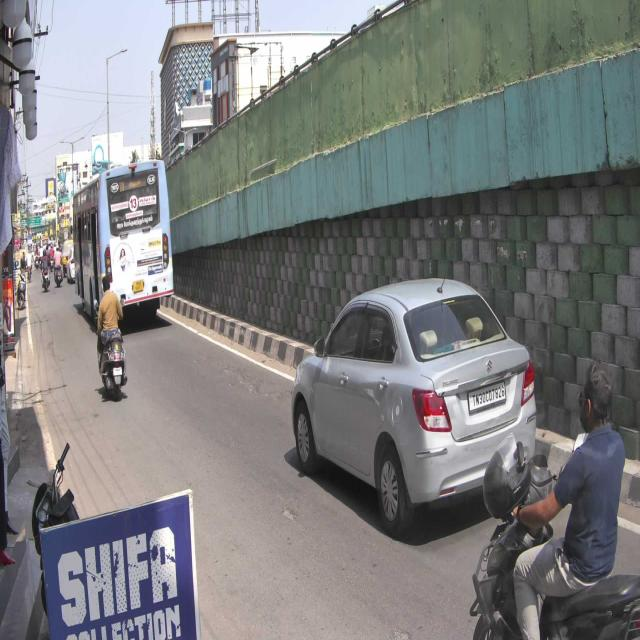single_rider: (466, 363, 640, 640)
